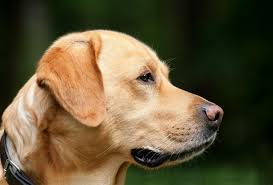Dog: (45, 31, 222, 165)
